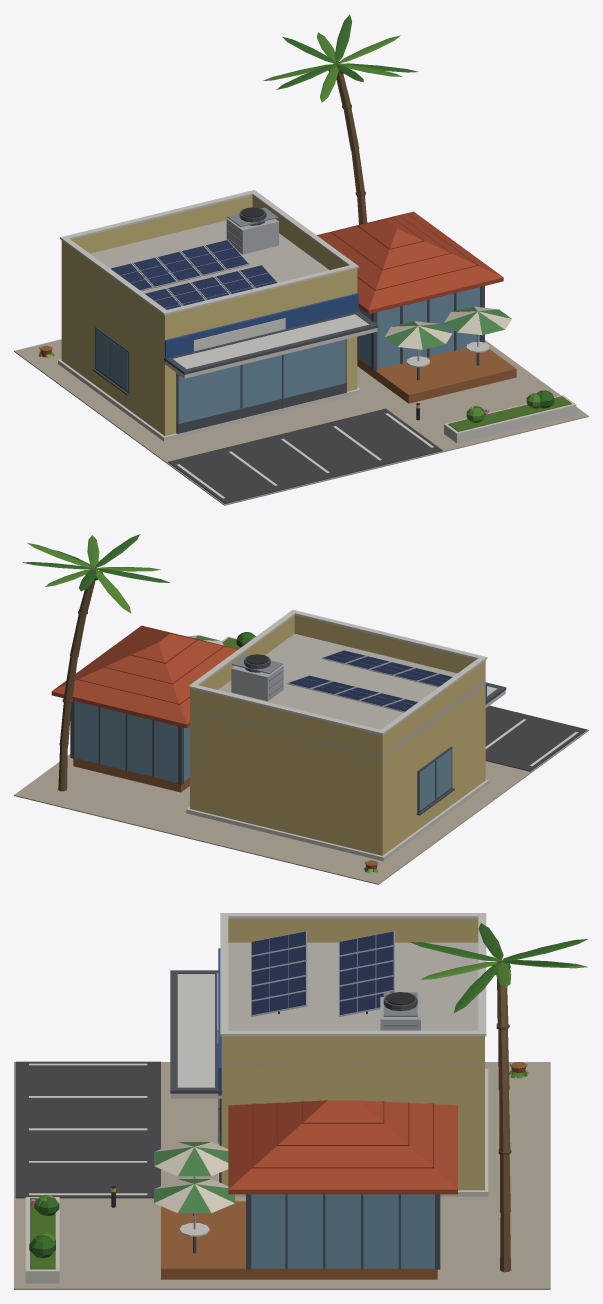
The model's file is shop_1.glb.
3 views of the same model, one above another, from view 1: azimuth 30°, elevation 25°; view 2: azimuth 150°, elevation 25°; view 3: azimuth 270°, elevation 25° (orthographic). The views are drawn at different scales.
Parts seen in each view (by area): view 1: body; view 2: body; view 3: body.
Boxes of the visible parts, <box> form: body: <box>14,14,588,505</box>; body: <box>14,534,588,884</box>; body: <box>14,913,587,1289</box>.
Bounding box in the file's own units: 16.11 × 10.55 × 17.03.
